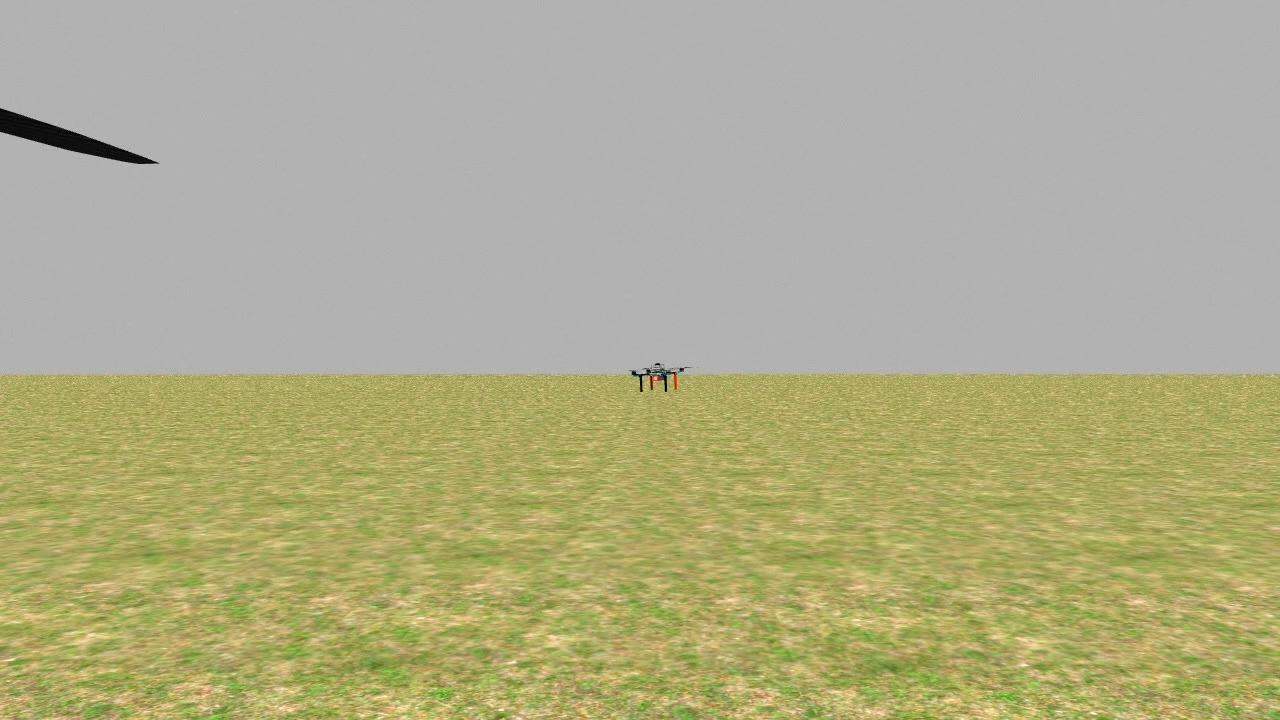UAV: (628, 352, 692, 400)
